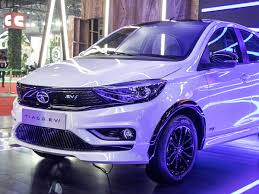Tiago: (9, 14, 259, 188)
